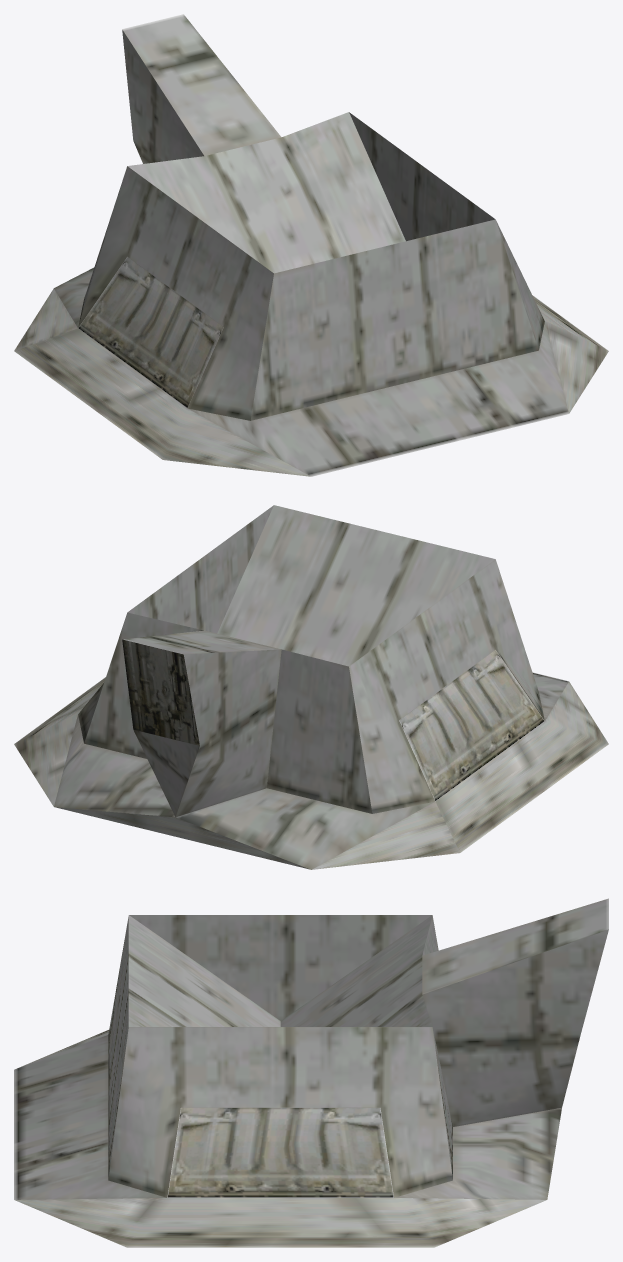
Rendered from ins_all_def_turret_lg_s03_turret_l2.fbx.
3 renders of one model, top to bottom at view 1: azimuth 30°, elevation 25°; view 2: azimuth 150°, elevation 25°; view 3: azimuth 270°, elevation 25°, orthographic. The views are drawn at different scales.
Parts seen in each view (by area): view 1: mesh_node; view 2: mesh_node; view 3: mesh_node.
Part boxes in pixels (x1,y1,x2,y2): mesh_node: [14, 14, 608, 476]; mesh_node: [14, 505, 608, 869]; mesh_node: [14, 898, 608, 1247].
Size of the model in its own units: 2.37 by 1.08 by 2.65.
